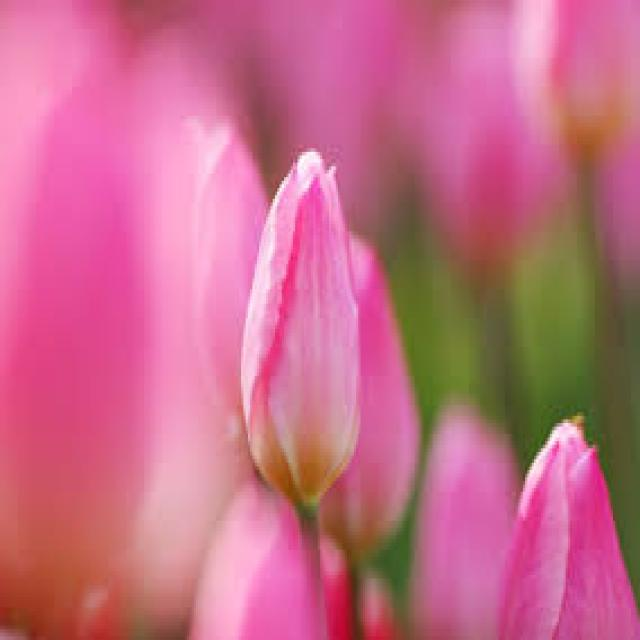Unbloomed: (252, 124, 369, 544)
